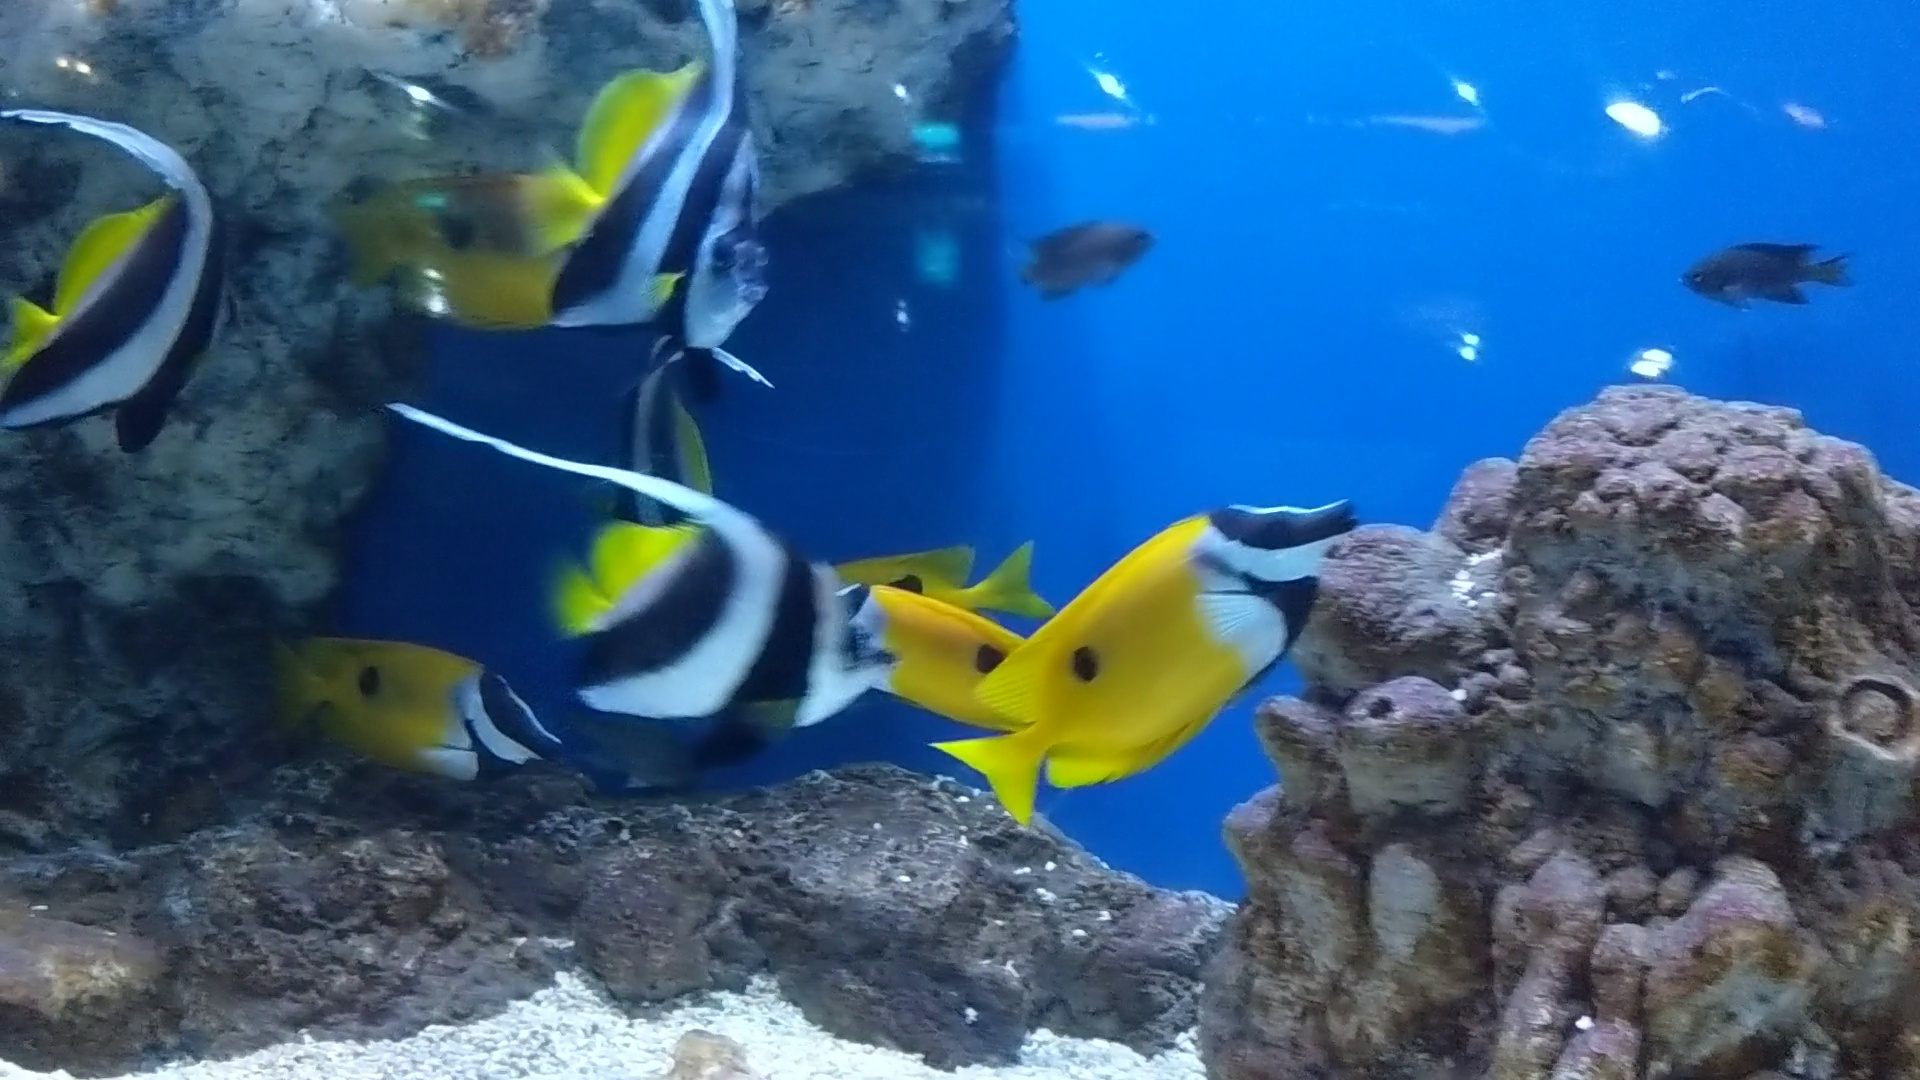moorfish: (394, 390, 893, 750), (344, 42, 793, 336), (15, 65, 239, 436)
rabbitfish: (947, 483, 1365, 839), (266, 638, 580, 774), (839, 588, 1021, 727)
